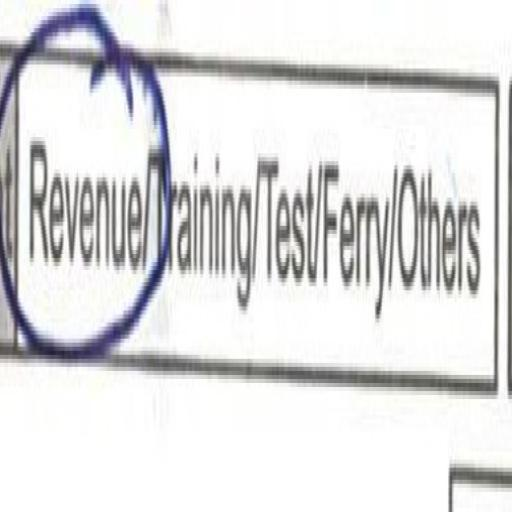check: (0, 0, 149, 422)
